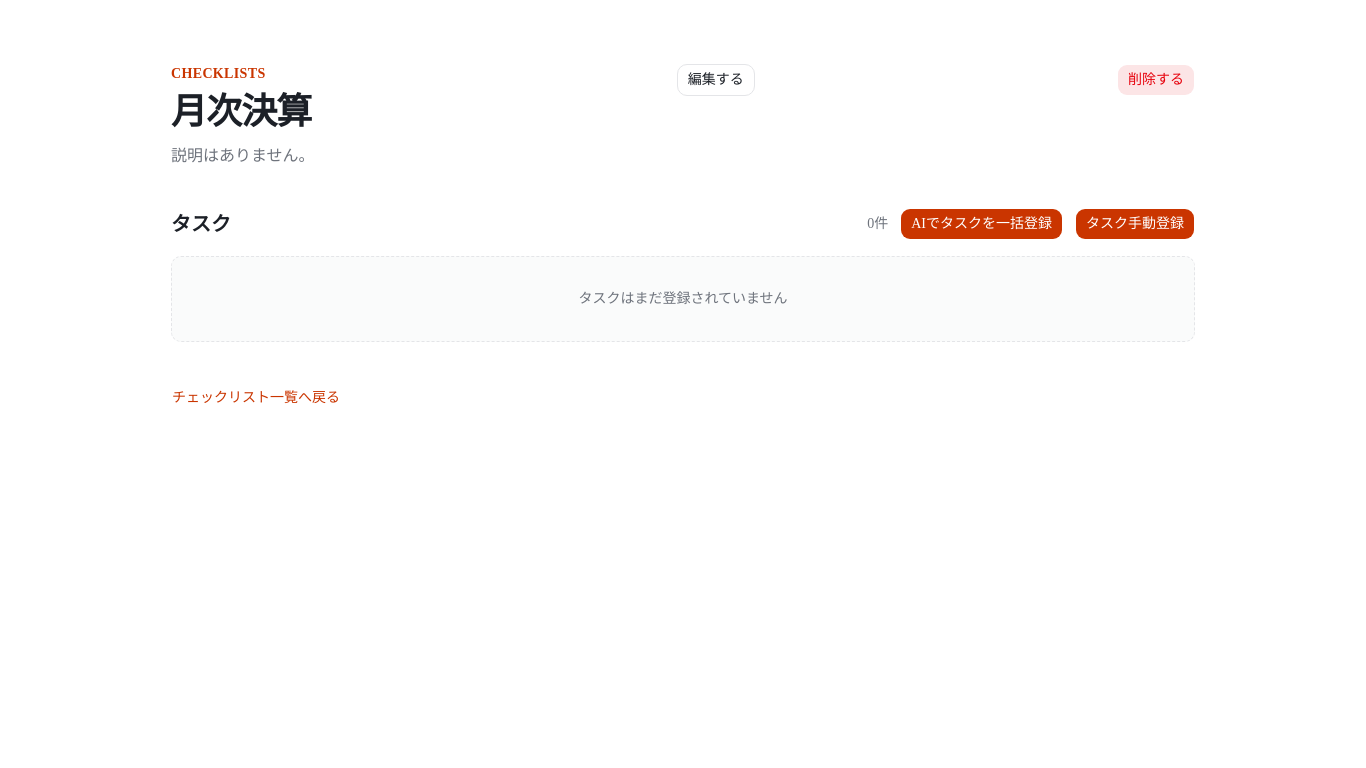
Test: 手動登録に成功すると詳細を再取得して新しいタスクを表示する
Click the button "タスク手動登録" at (1135, 224), box top-left (1075, 208), bottom-right (1195, 240)
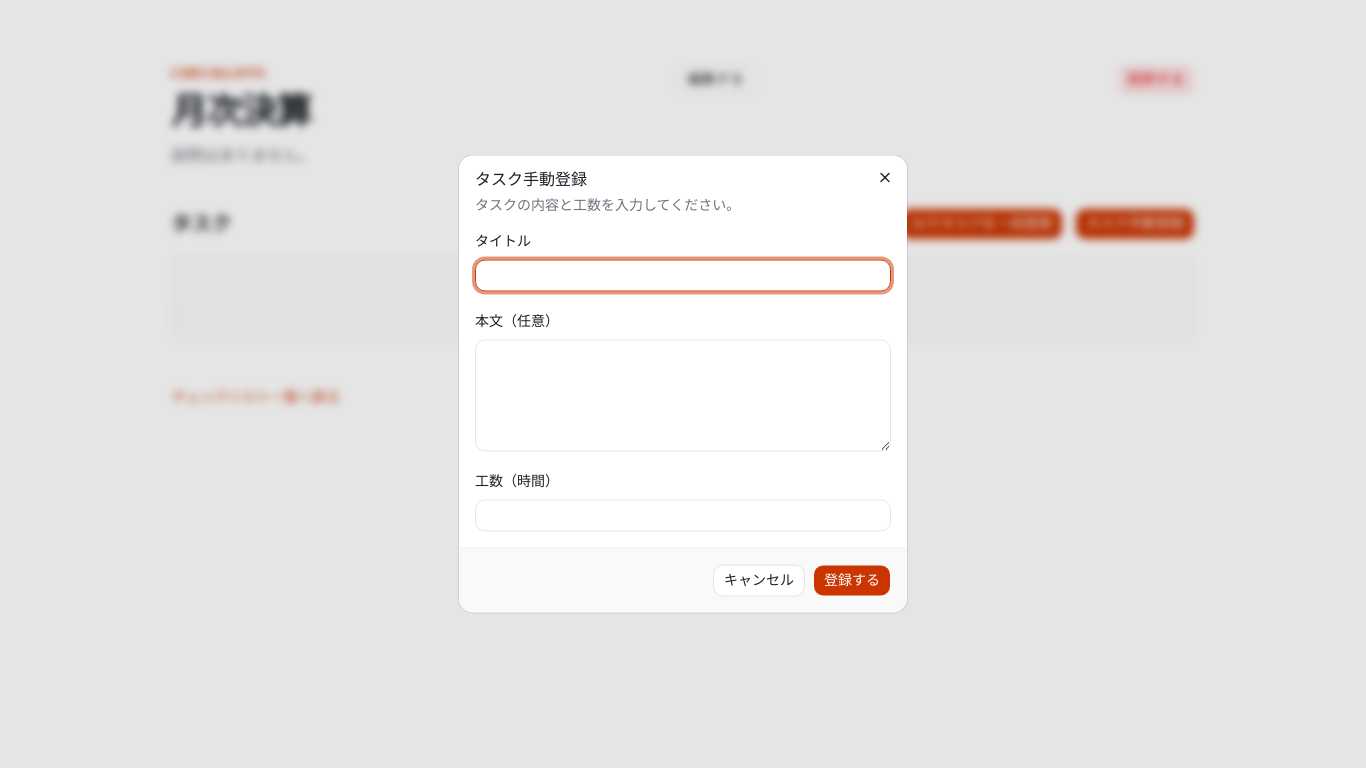
Type "手動タスク" into the field labelled "タイトル" at (683, 276), box top-left (475, 260), bottom-right (891, 292)
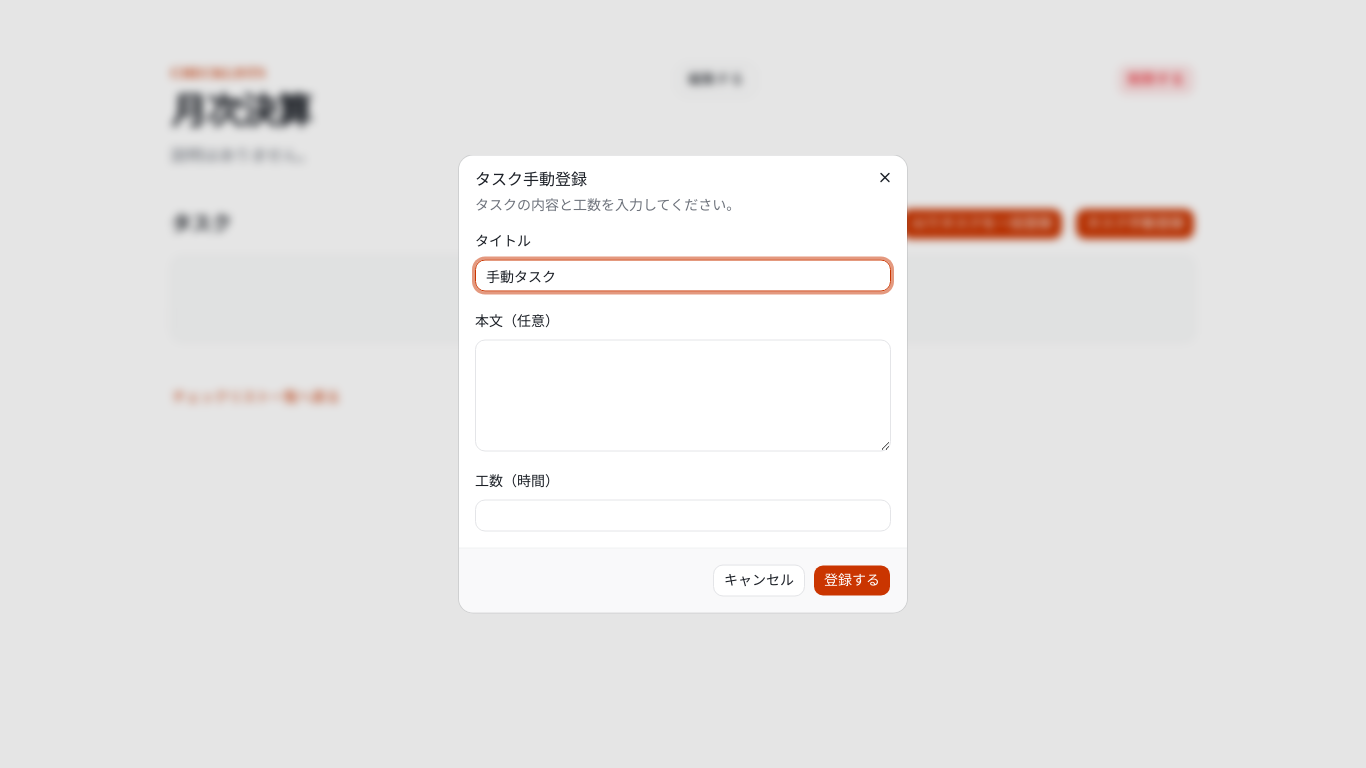
Type "0.5" into the number field labelled "工数（時間）" at (683, 516), box top-left (475, 500), bottom-right (891, 532)
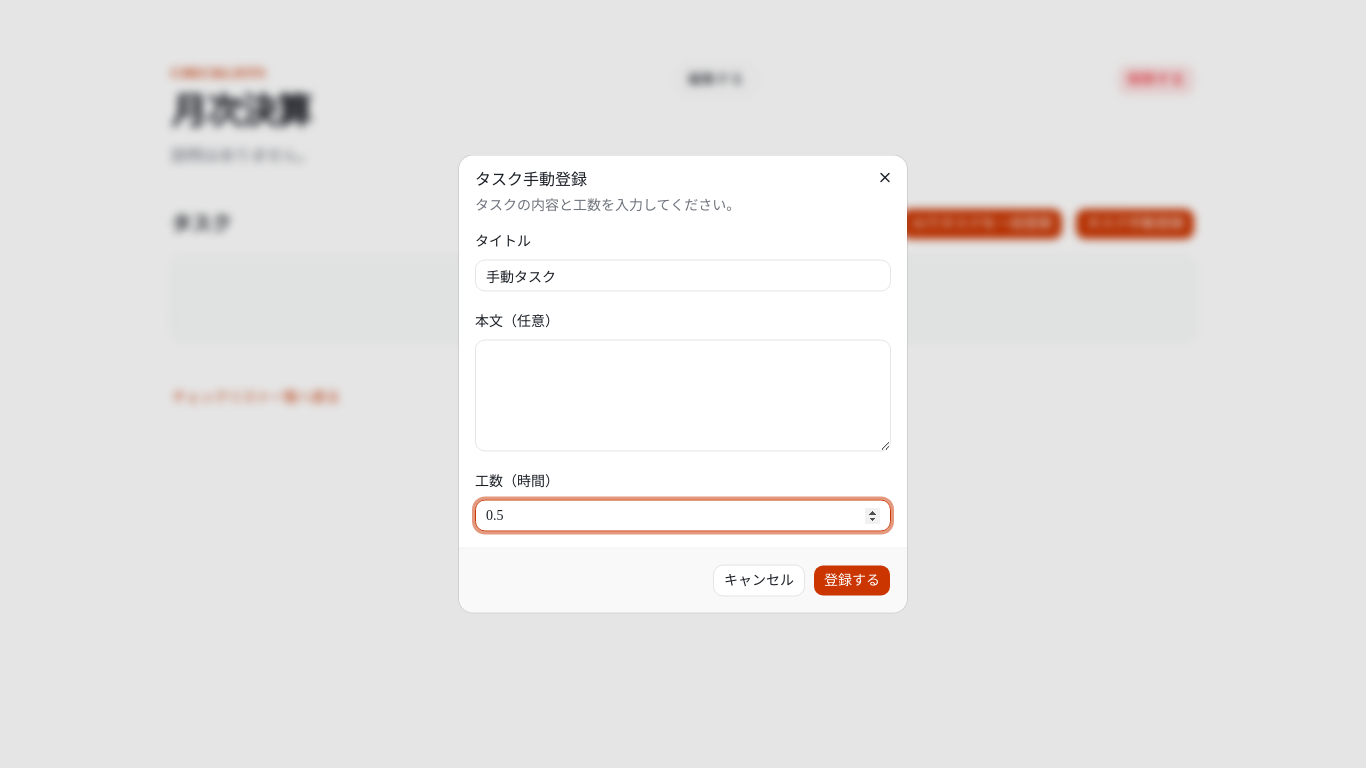
Click the button "登録する" at (852, 580), box top-left (813, 564), bottom-right (891, 596)
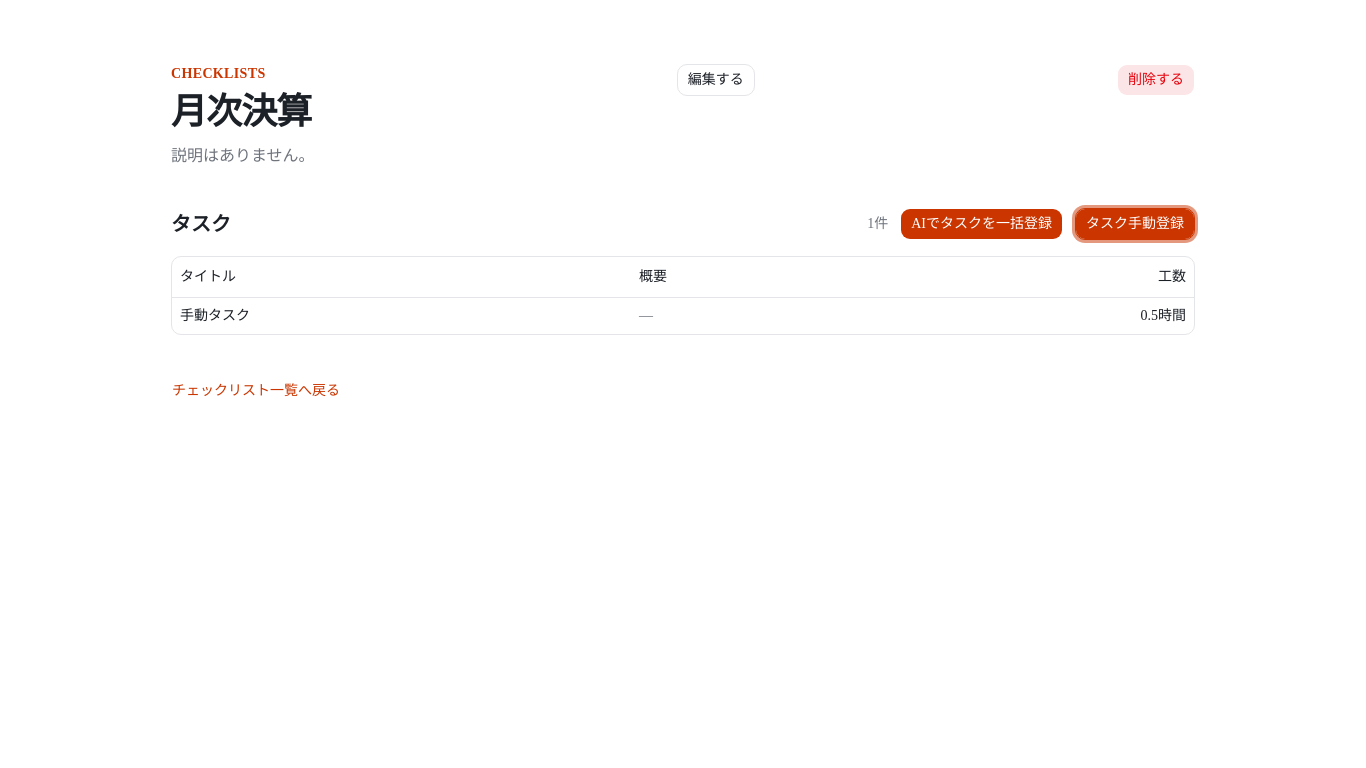
Expected: the link "手動タスク" is shown, top-left (180, 308), bottom-right (250, 322)
